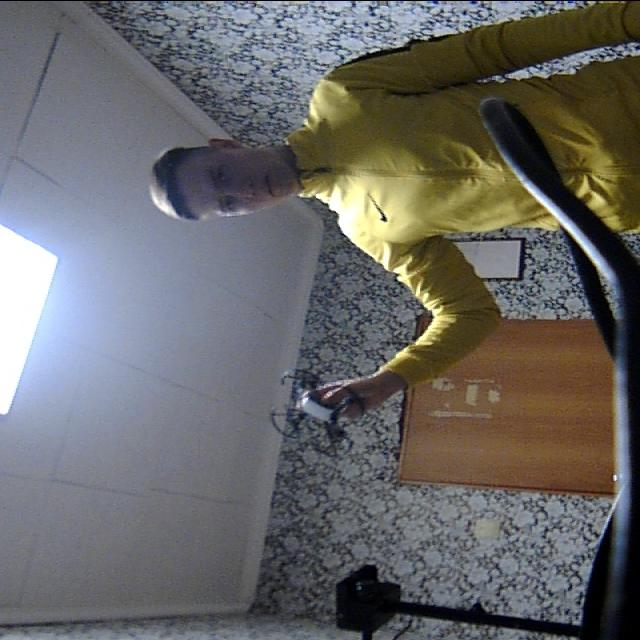drone: (257, 368, 366, 452)
